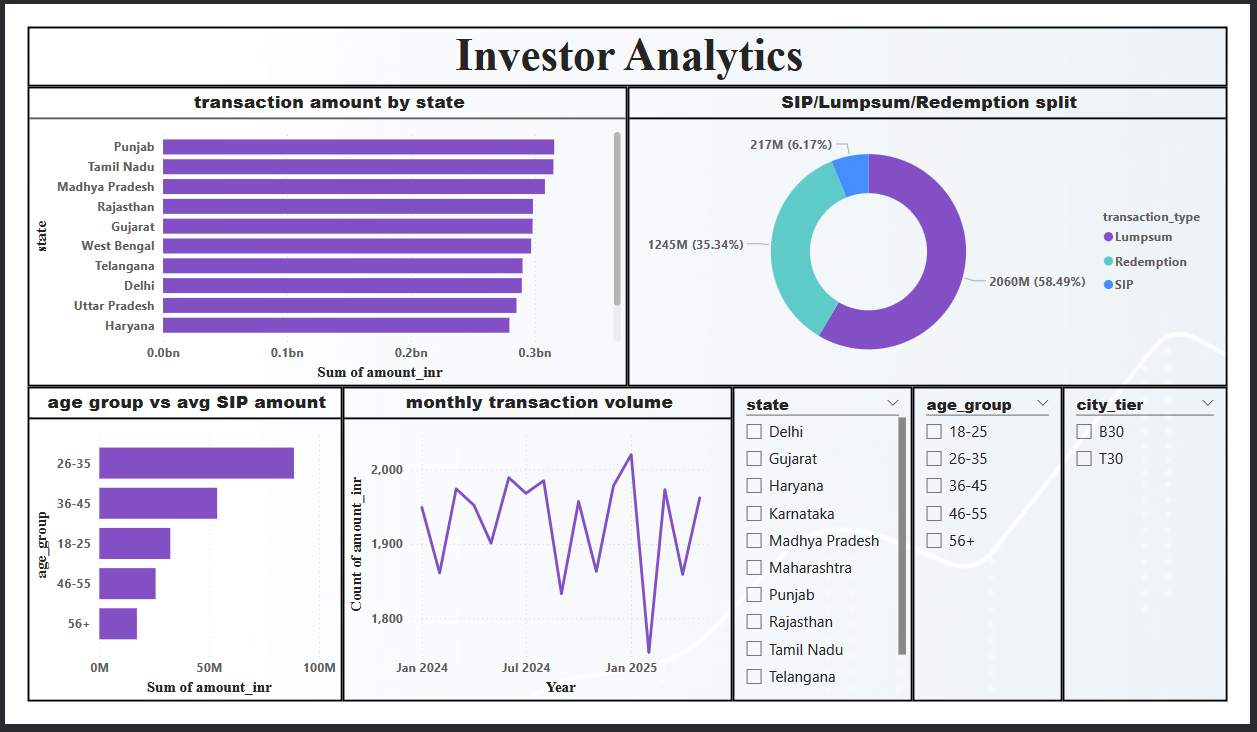

This screenshot's page, from the dashboard's own definition file:
{"tool":"powerbi","page":{"name":"Investor Analytics","canvas":[1280,720],"ordinal":2},"visuals":[{"type":"textbox","title":"Investor Analytics","box":[0,0,1280,64],"z":0},{"type":"clusteredBarChart","title":"transaction amount by state","fields":{"Category":["08_investor_transactions.state"],"Y":["Sum(08_investor_transactions.amount_inr)"]},"box":[0,64,640,320],"z":1000},{"type":"donutChart","title":"SIP/Lumpsum/Redemption split","fields":{"Category":["08_investor_transactions.transaction_type"],"Y":["Sum(08_investor_transactions.amount_inr)"]},"box":[640,64,640,320],"z":2000},{"type":"barChart","title":"age group vs avg SIP amount","fields":{"Category":["08_investor_transactions.age_group"],"Y":["Sum(08_investor_transactions.amount_inr)"]},"box":[0,384,336,336],"z":3000},{"type":"lineChart","title":"monthly transaction volume","fields":{"Y":["CountNonNull(08_investor_transactions.amount_inr)"],"Category":["08_investor_transactions.transaction_date.Variation.Date Hierarchy.Year","08_investor_transactions.transaction_date.Variation.Date Hierarchy.Quarter","08_investor_transactions.transaction_date.Variation.Date Hierarchy.Month"]},"box":[336,384,416,336],"z":4000},{"type":"slicer","fields":{"Values":["08_investor_transactions.state"]},"box":[752,384,192,336],"z":5000},{"type":"slicer","fields":{"Values":["08_investor_transactions.age_group"]},"box":[944,384,160,336],"z":6000},{"type":"slicer","fields":{"Values":["08_investor_transactions.city_tier"]},"box":[1104,384,176,336],"z":7000}]}

Visuals, with their boxes on the page's 1280x720 design canvas (x1, y1, x2, y2). These are canvas units, not pixel positions in the 1257x732 screenshot, which may show the page scaled, cropped or inside an application window:
"Investor Analytics" textbox: detection(0, 0, 1280, 64)
"transaction amount by state" clusteredBarChart: detection(0, 64, 640, 384)
"SIP/Lumpsum/Redemption split" donutChart: detection(640, 64, 1280, 384)
"age group vs avg SIP amount" barChart: detection(0, 384, 336, 720)
"monthly transaction volume" lineChart: detection(336, 384, 752, 720)
slicer - 08_investor_transactions.state: detection(752, 384, 944, 720)
slicer - 08_investor_transactions.age_group: detection(944, 384, 1104, 720)
slicer - 08_investor_transactions.city_tier: detection(1104, 384, 1280, 720)
